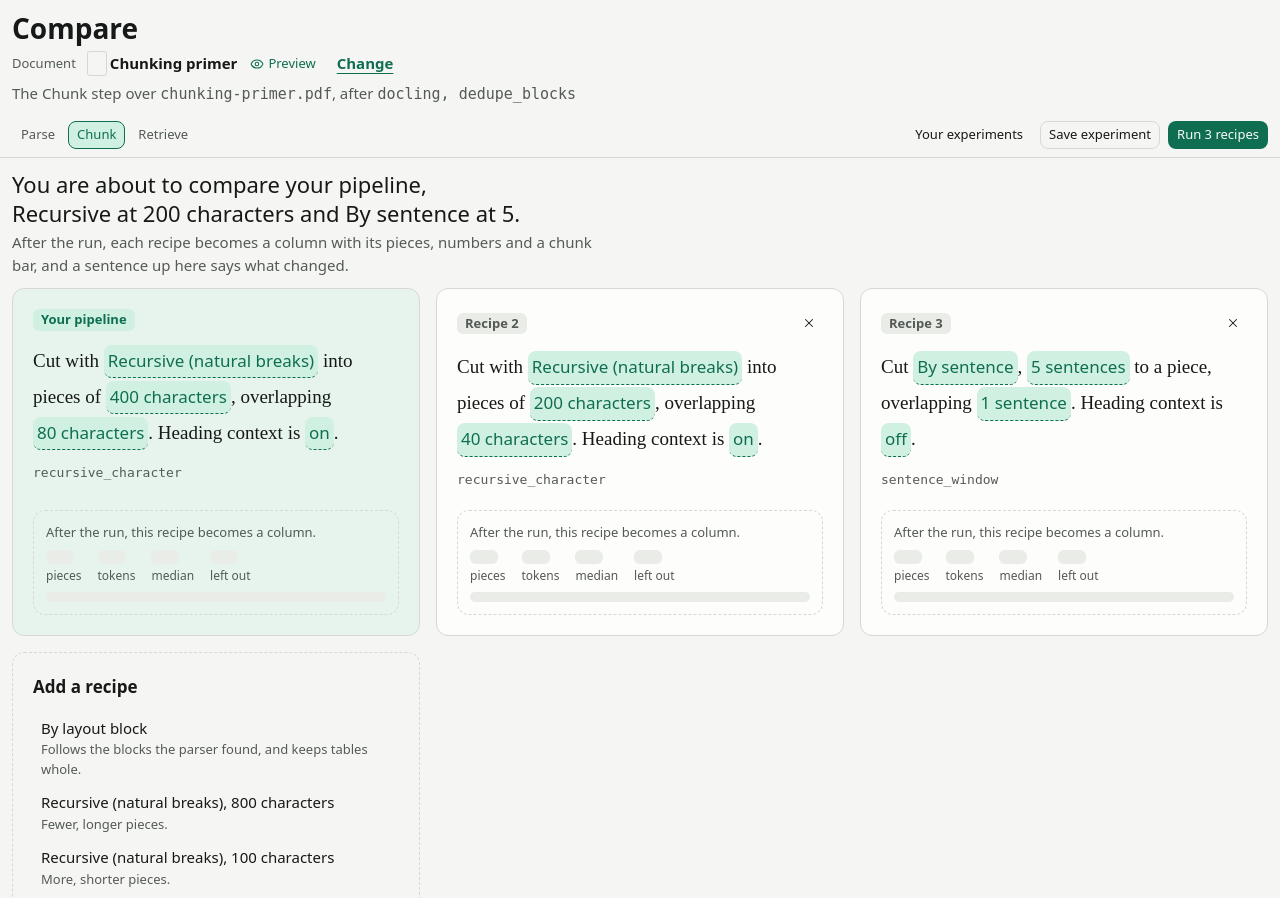
Test: before the run › opens one editor at a time under its value, and Escape closes it and gives focus back
Click the button with aria-label "Change chunk size, now 400 characters": [168, 398] box [106,381,231,414]
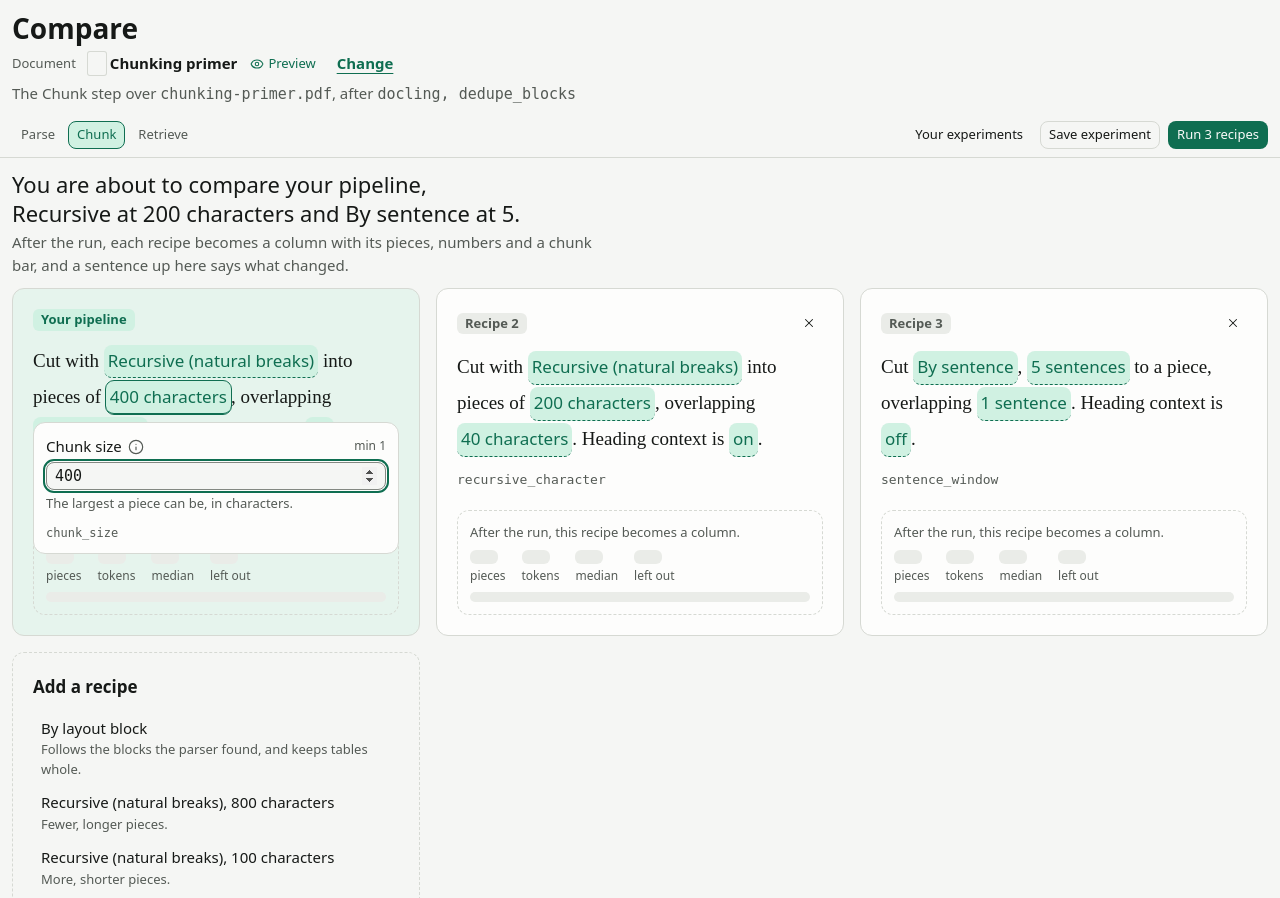
Now the dialog "Chunk size" is shown, box [33,422,399,554]
Click the button with aria-label "Change chunk overlap": [515, 440] box [457,424,572,457]
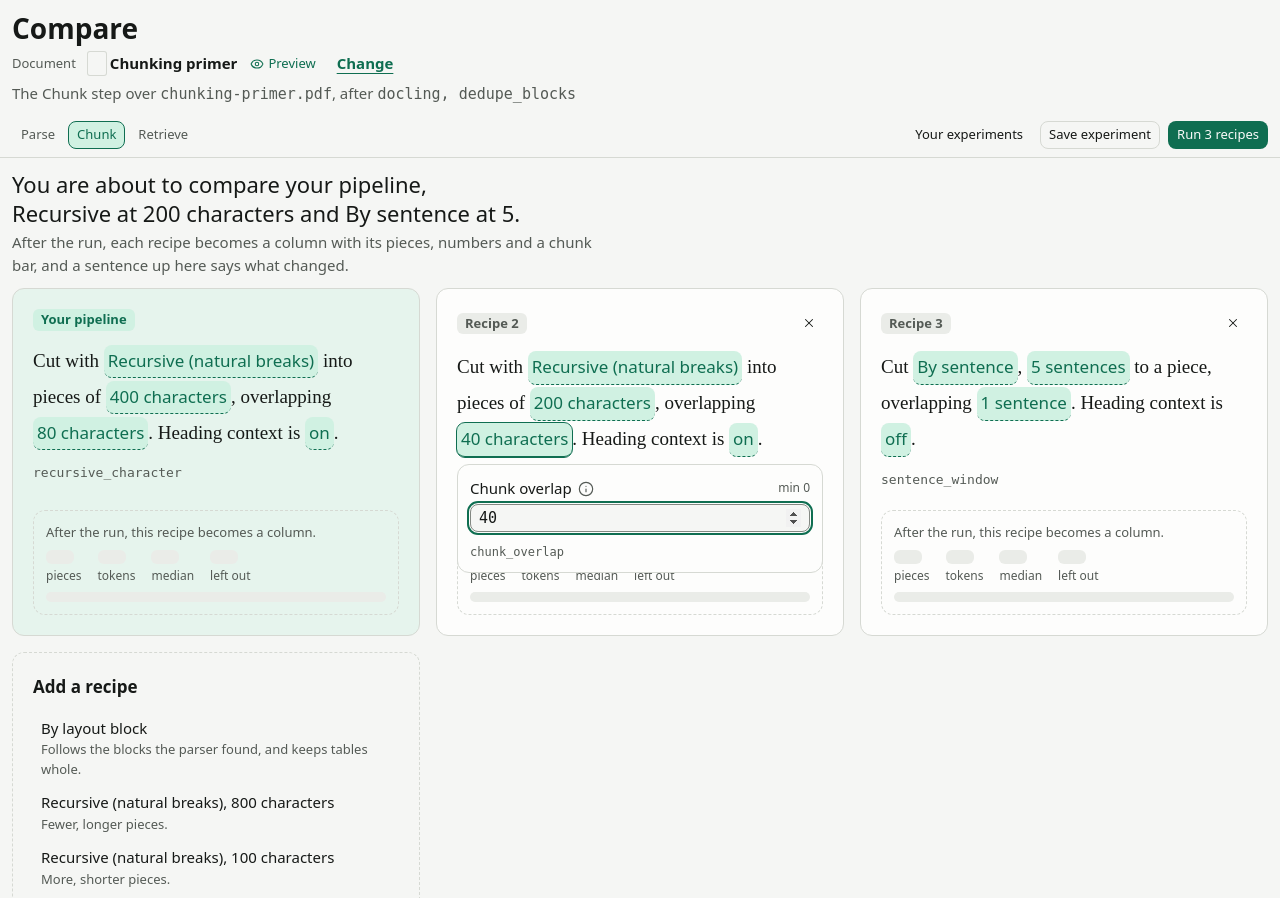
Now the number of dialogs is 1, box [457,464,823,573]
Press Escape in the number field labelled "Chunk overlap", box [470,504,810,532]
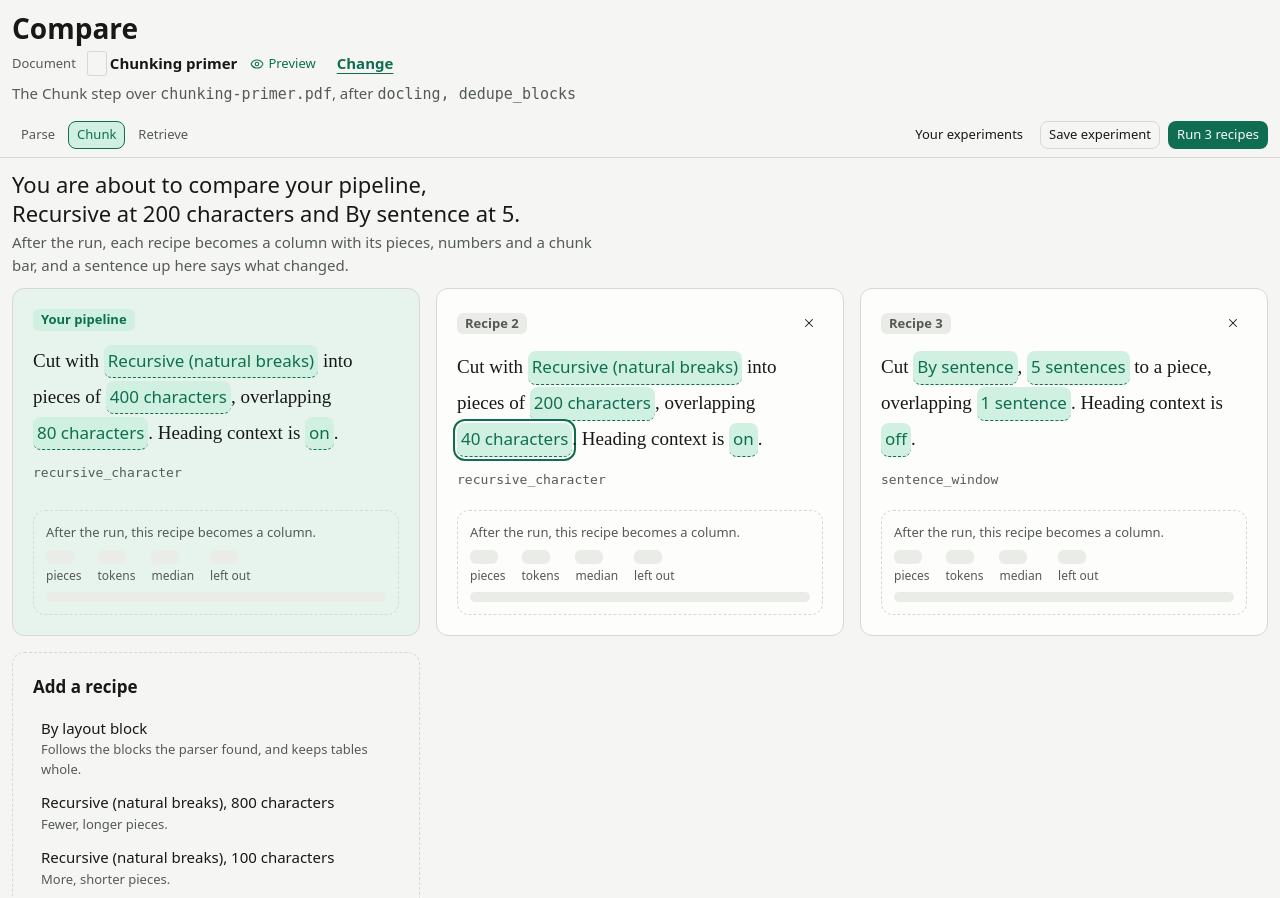
Now the dialog is gone
